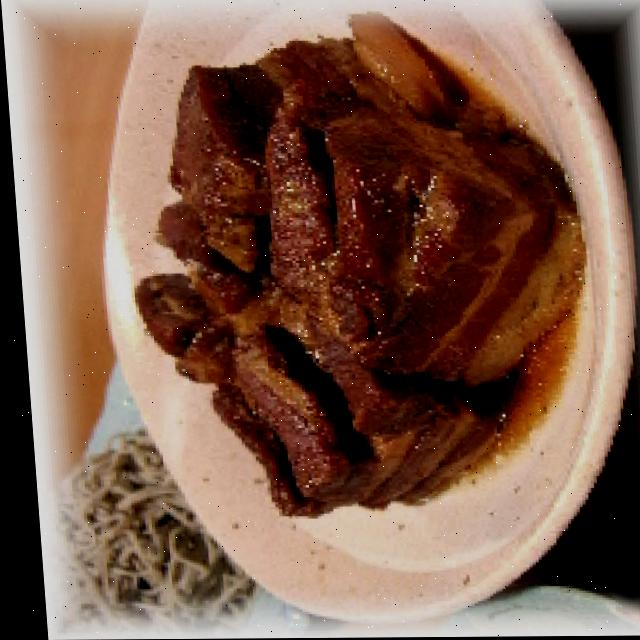猪肉菜式: (72, 27, 640, 616)
